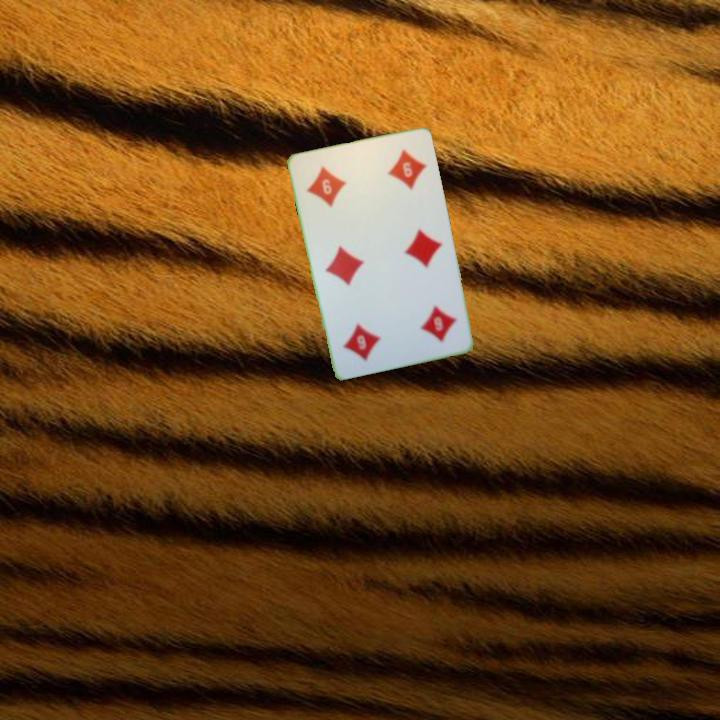d_6.png: (389, 287, 466, 356), (297, 150, 374, 219)
